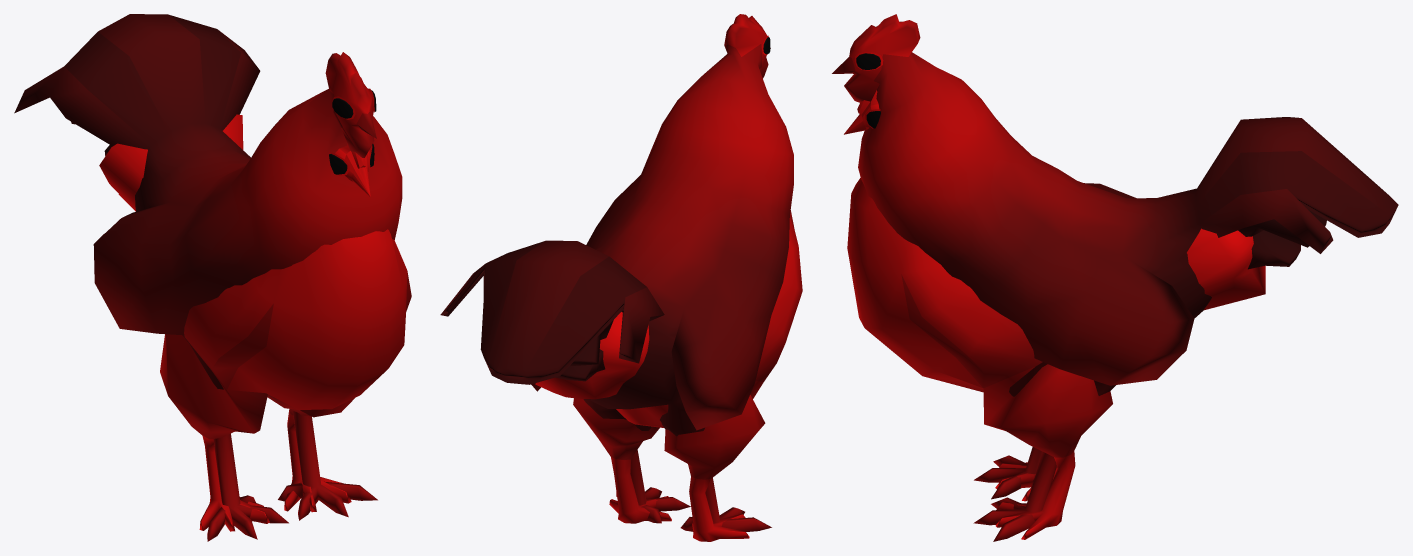
Rendered from BirdsUpright_Chicken.fbx.
3 views of the same model, side by side, from view 1: azimuth 30°, elevation 25°; view 2: azimuth 150°, elevation 25°; view 3: azimuth 270°, elevation 25° (orthographic). The views are drawn at different scales.
Visible parts, largest first — view 1: alt612, alt613; view 2: alt612, alt613; view 3: alt612, alt613.
Part boxes in pixels (x1,y1,x2,y2): alt612: (14, 14, 402, 541); alt613: (99, 114, 411, 531); alt612: (440, 14, 793, 531); alt613: (535, 210, 802, 541); alt612: (832, 14, 1398, 541); alt613: (844, 90, 1265, 539).
Size of the model in its own units: 29.97 by 62.66 by 65.58.
